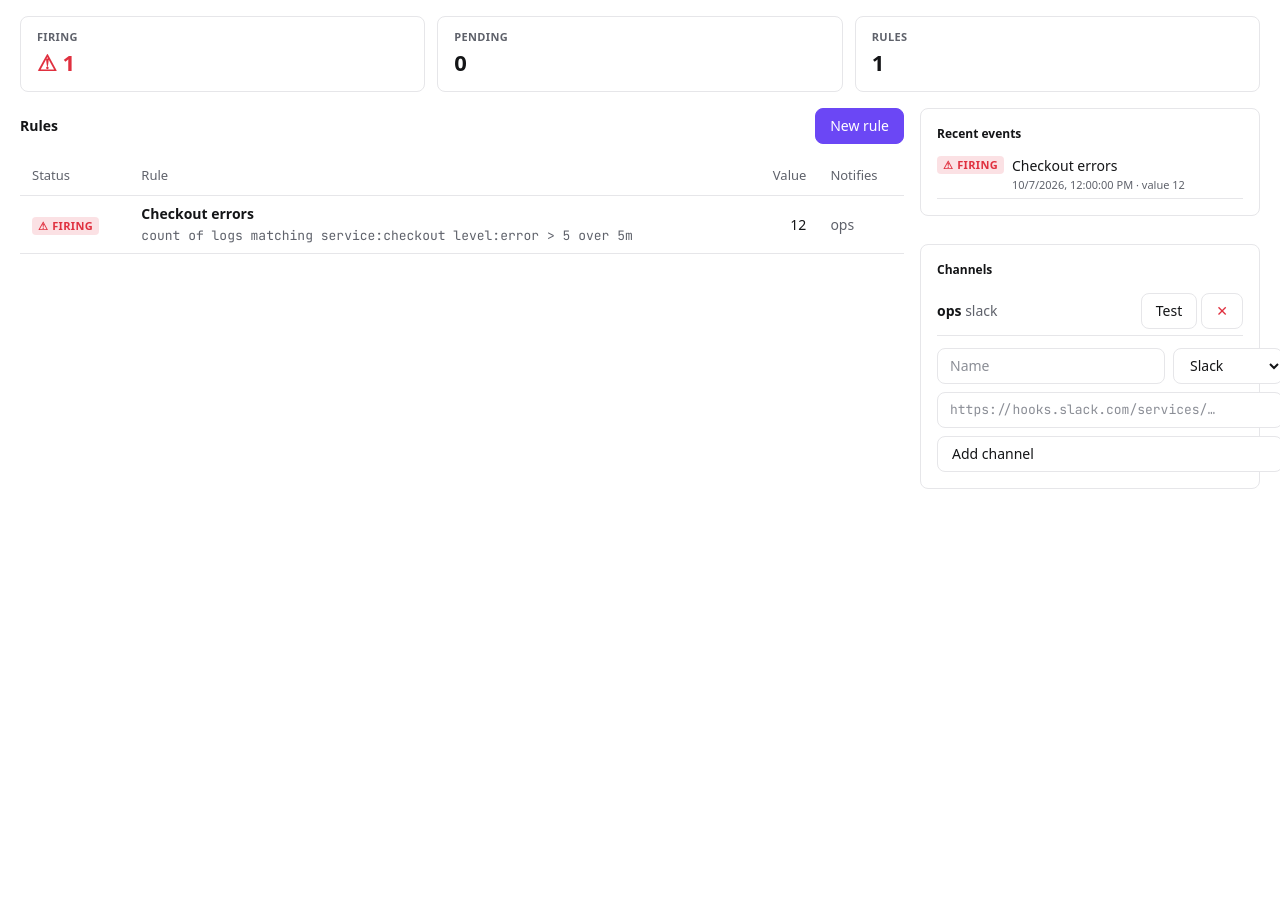
shows validation errors from the server
Step 1. Click the button with class "new-rule" → (860, 126), box [815,108,904,144]
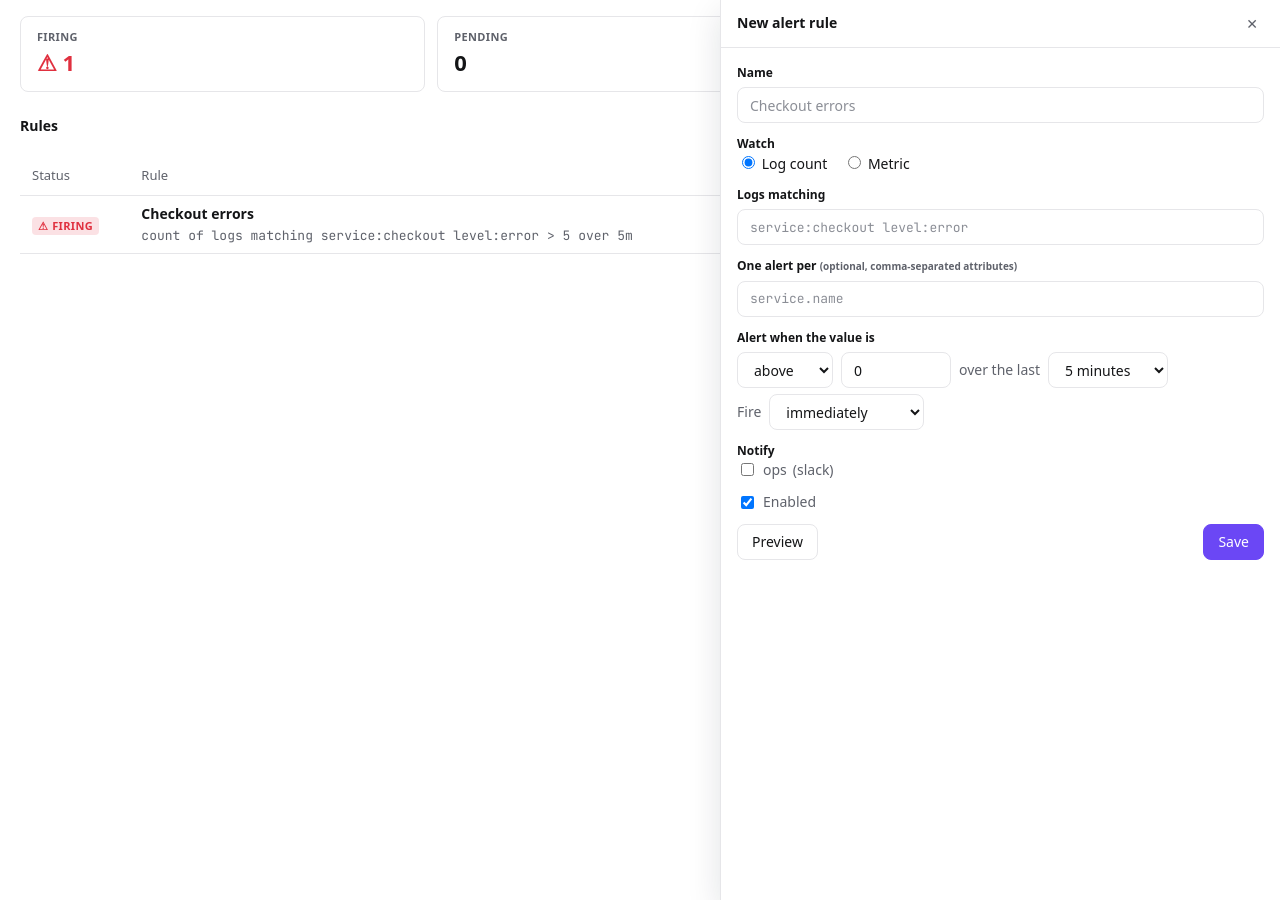
Step 2. Submit the form with class "rule-form", box [737,64,1264,560]
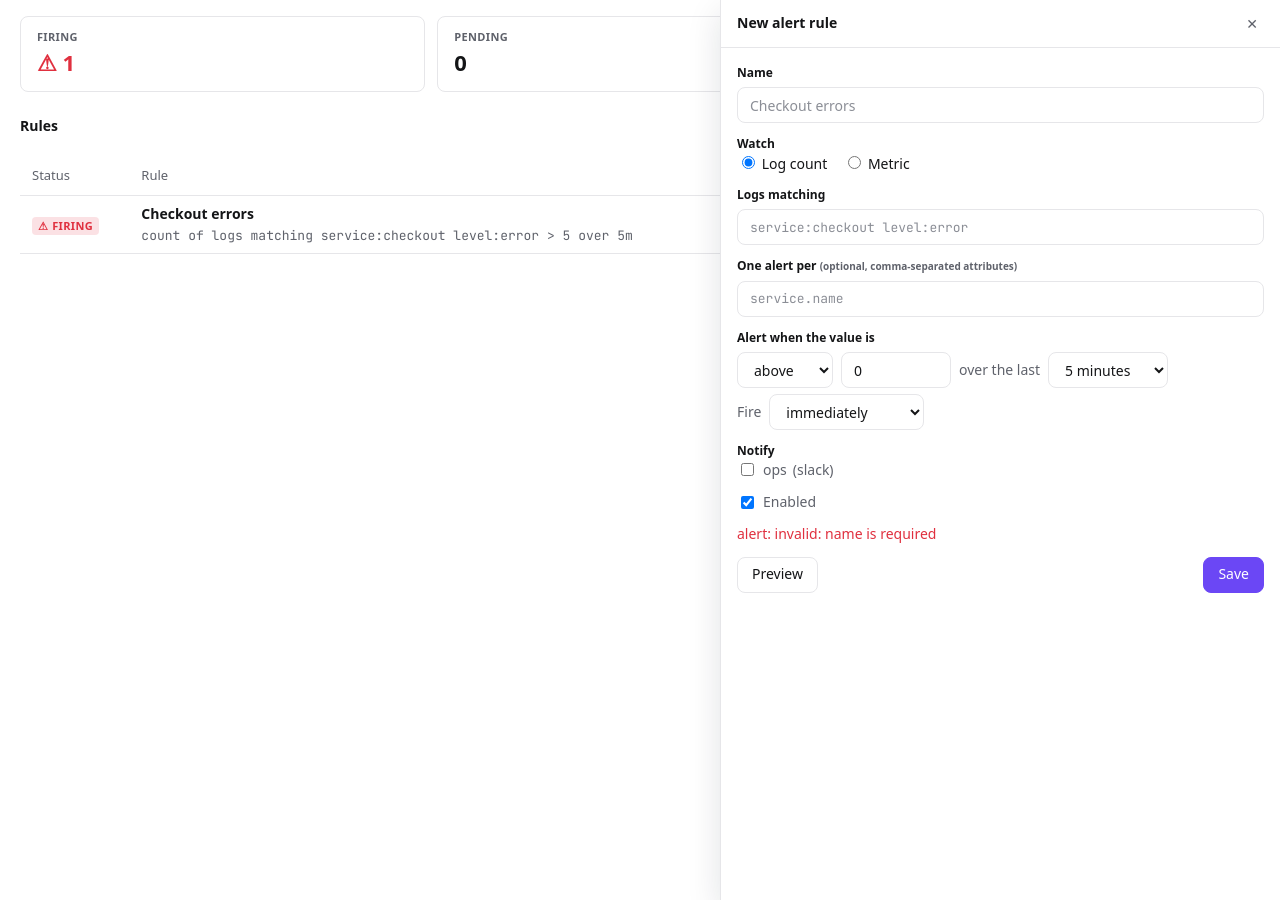
Check: the message "alert: invalid: name is required" is shown, box [737,524,936,543]
